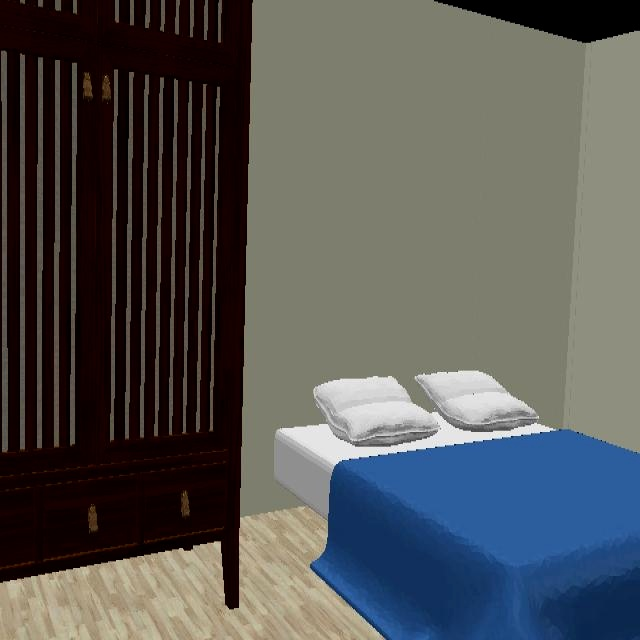bed: (275, 371, 640, 640)
pillow: (414, 371, 554, 432), (334, 376, 441, 447)
